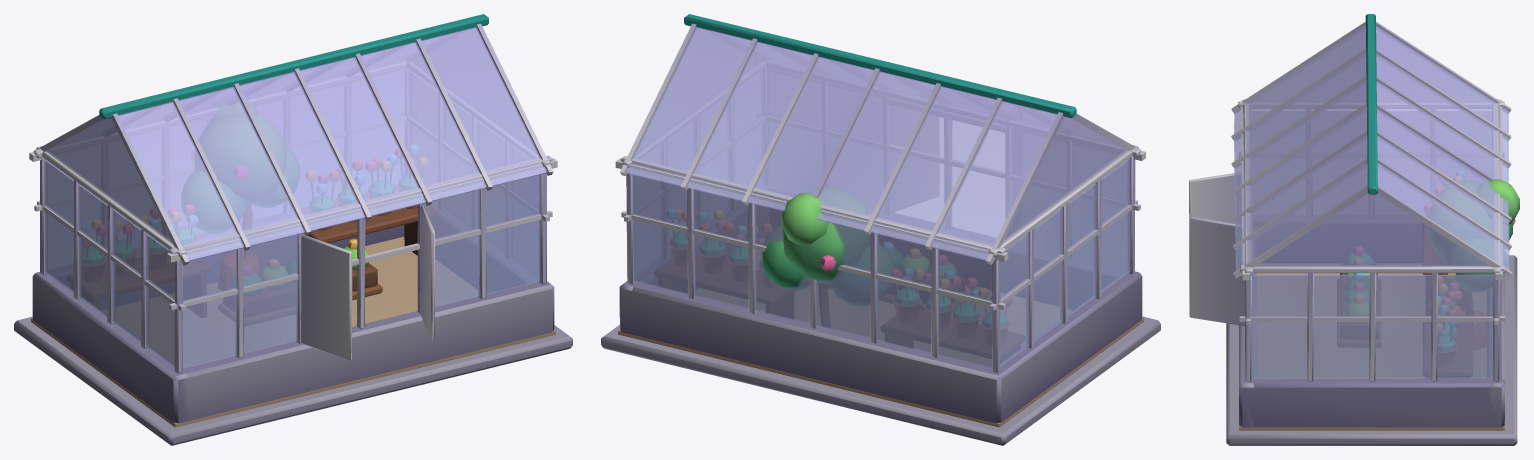
File: common_town_greenhouse.glb
3 views of the same model, side by side, from view 1: azimuth 30°, elevation 25°; view 2: azimuth 150°, elevation 25°; view 3: azimuth 270°, elevation 25° (orthographic). The views are drawn at different scales.
Visible parts, largest first — view 1: common_town_greenhouse; view 2: common_town_greenhouse; view 3: common_town_greenhouse.
Boxes of the visible parts, x1,y1,x2,y2 form: common_town_greenhouse: (14,14,572,445); common_town_greenhouse: (601,14,1160,445); common_town_greenhouse: (1189,14,1519,445).
Bounding box in the file's own units: 6.8 × 4.47 × 5.23.
